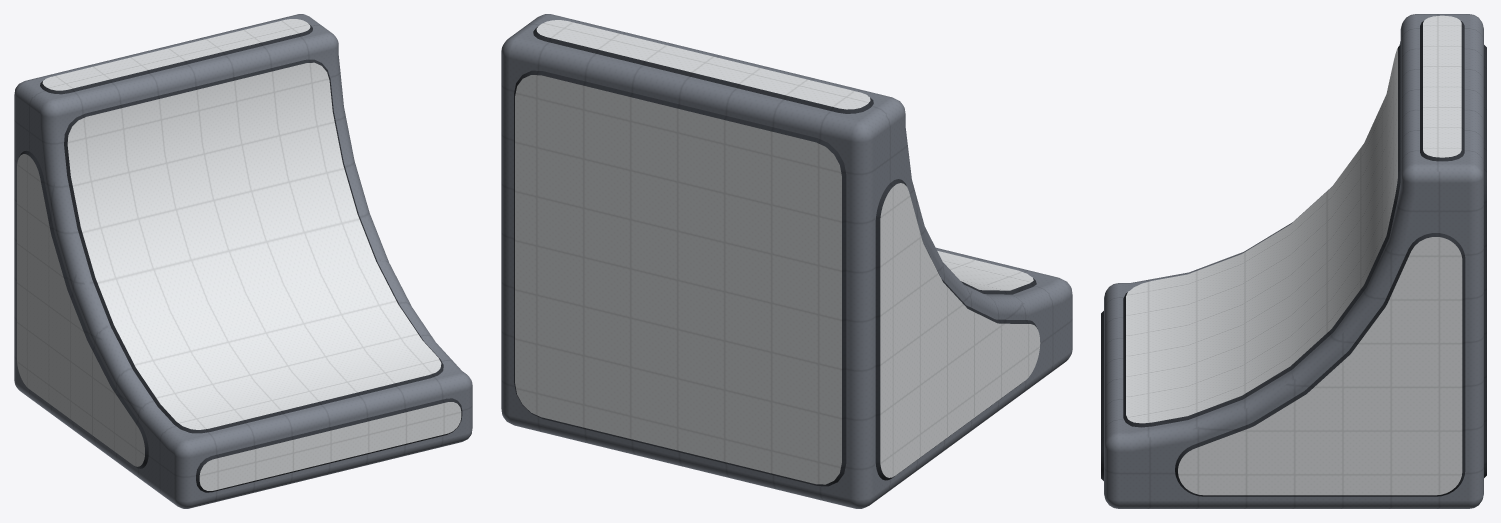
Rendered from R4B_CoveEdge.glb.
3 views of the same model, side by side, from view 1: azimuth 30°, elevation 25°; view 2: azimuth 150°, elevation 25°; view 3: azimuth 270°, elevation 25° (orthographic). The views are drawn at different scales.
Parts seen in each view (by area): view 1: R4B_CoveEdge; view 2: R4B_CoveEdge; view 3: R4B_CoveEdge.
Part boxes in pixels (x1,y1,x2,y2): R4B_CoveEdge: (14,14,472,508); R4B_CoveEdge: (501,14,1072,508); R4B_CoveEdge: (1101,14,1486,508).
Bounding box in the file's own units: 0.52 × 0.52 × 0.52.
3 materials, 3 textured.
